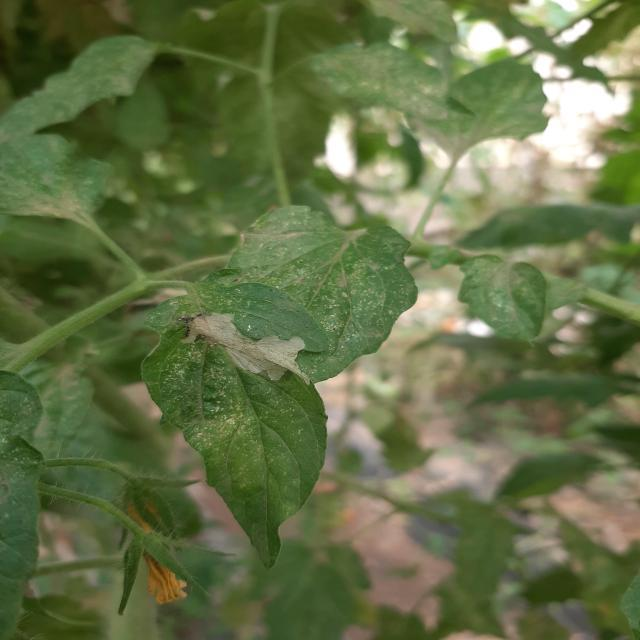Tuta absoluta: (169, 294, 323, 392)
